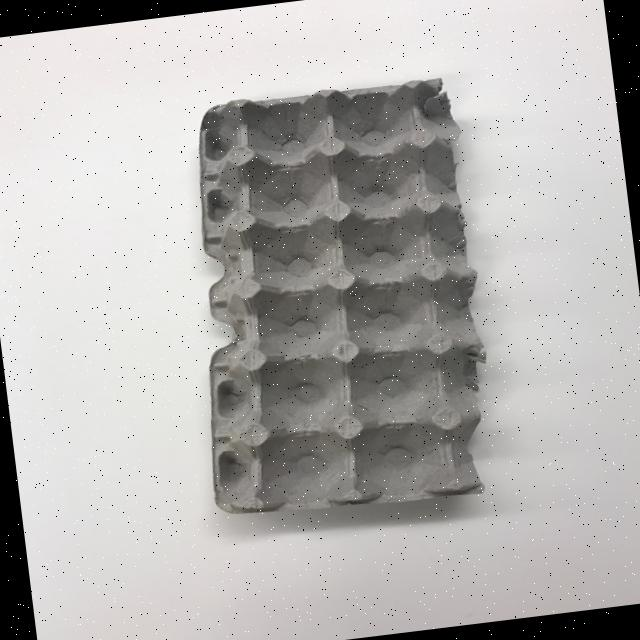paper: (0, 0, 640, 640), (166, 72, 507, 526)
